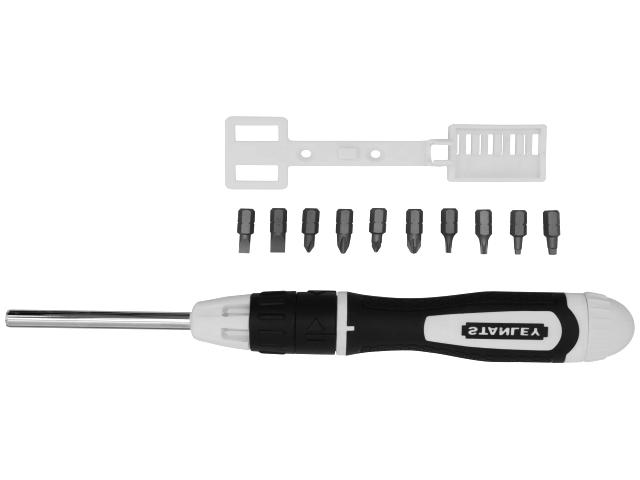Screwdriver: (6, 291, 634, 363)
